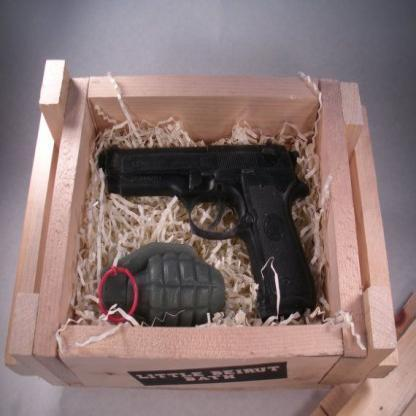Grenade: (98, 242, 228, 326)
Pistol: (97, 136, 317, 319)
